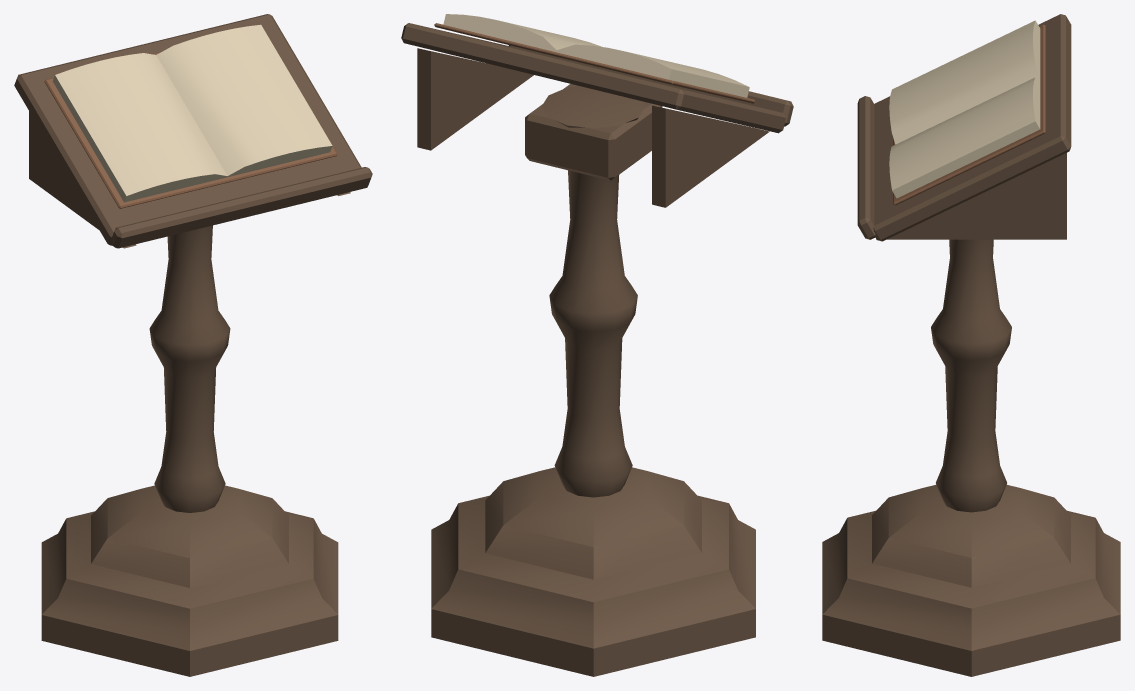
Rendered from lectern.glb.
3 renders of one model, left to right at view 1: azimuth 30°, elevation 25°; view 2: azimuth 150°, elevation 25°; view 3: azimuth 270°, elevation 25°, orthographic. The views are drawn at different scales.
Visible parts, largest first — view 1: lectern, lectern_desk; view 2: lectern, lectern_desk; view 3: lectern, lectern_desk.
Boxes of the visible parts, x1=… form: lectern: x1=41, y1=225, x2=338, y2=676; lectern_desk: x1=14, y1=14, x2=372, y2=248; lectern: x1=431, y1=86, x2=755, y2=676; lectern_desk: x1=401, y1=14, x2=793, y2=207; lectern: x1=822, y1=239, x2=1120, y2=676; lectern_desk: x1=857, y1=14, x2=1071, y2=241.
Bounding box in the file's own units: 0.72 × 1.24 × 0.6235.
